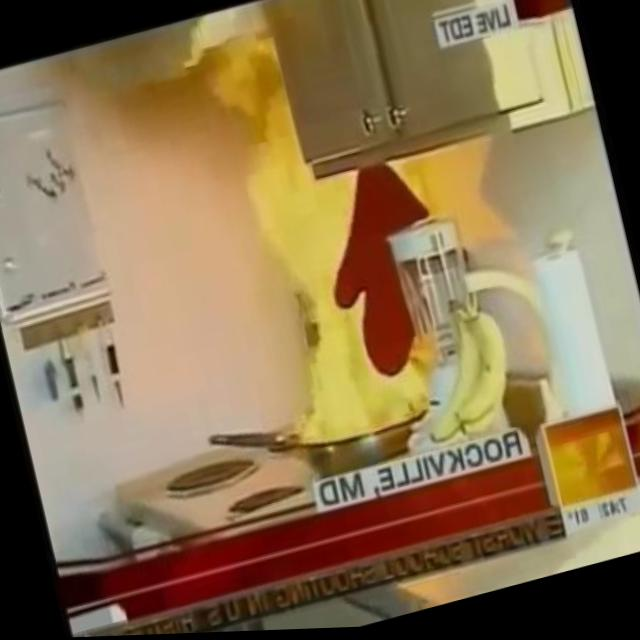fire: (191, 0, 437, 458)
